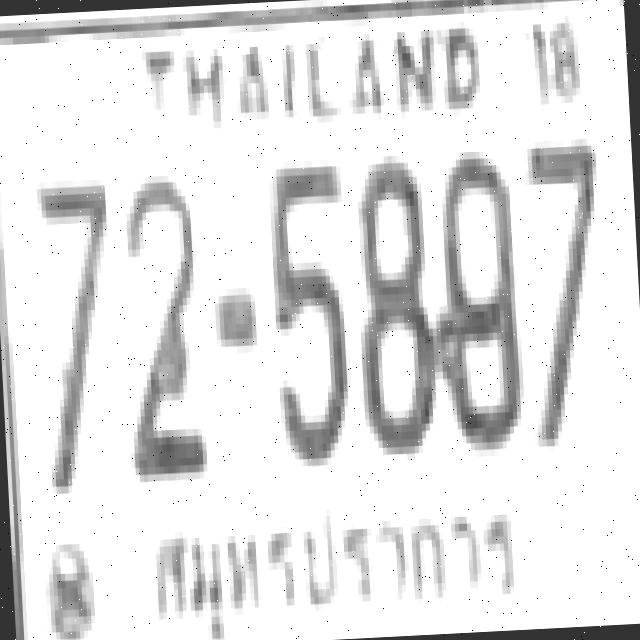2: (116, 167, 204, 476)
5: (264, 152, 352, 460)
7: (30, 172, 122, 488), (516, 132, 608, 448), (32, 171, 118, 451)
8: (428, 143, 522, 445), (350, 147, 440, 449)
SamutPrakan: (146, 487, 528, 640)
